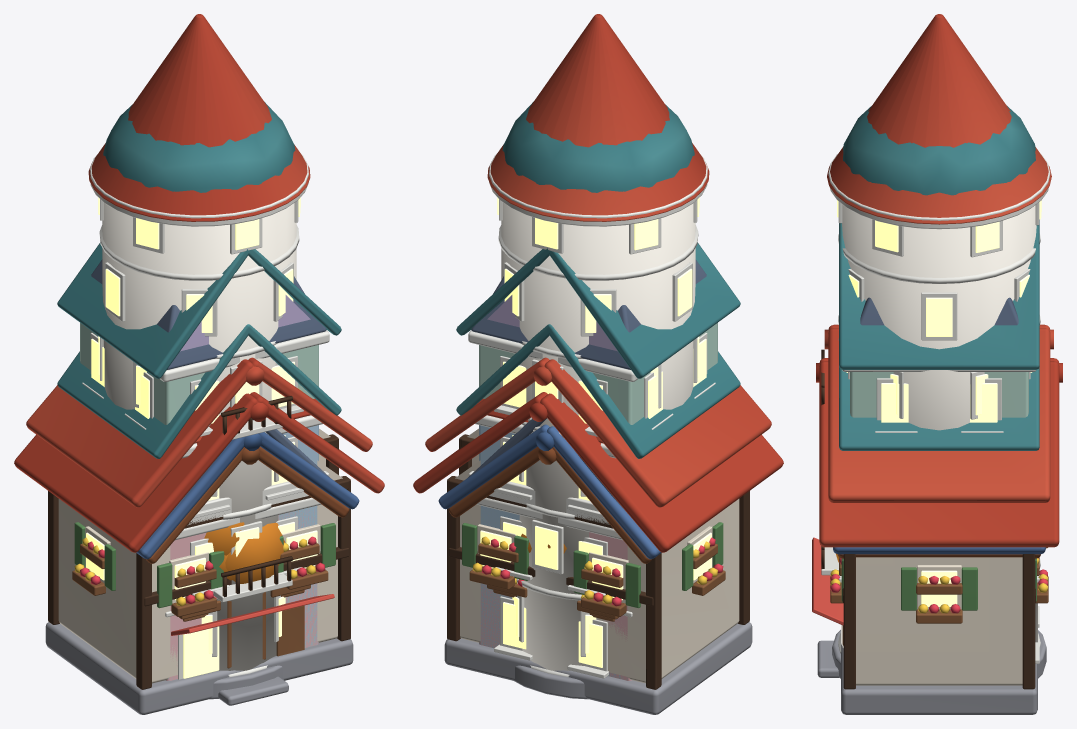
The model's file is props.glb.
3 views of the same model, side by side, from view 1: azimuth 30°, elevation 25°; view 2: azimuth 150°, elevation 25°; view 3: azimuth 270°, elevation 25° (orthographic).
Visible parts, largest first — view 1: tower_0, house_0, house_3, town_0, town_3, tower_1, town_5, town_2, house_1, house_2, town_1, tree_leafy_2 (+2 smaller); view 2: tower_0, house_0, house_3, tower_1, town_5, town_3, town_0, town_2, house_1, town_1, house_2, town_4; view 3: house_0, tower_0, house_3, town_5, tower_1, town_2, town_3, town_0, house_1, house_2.
Boxes of the visible parts, <box> form: tower_0: <box>88,14,310,699</box>; house_0: <box>14,392,384,714</box>; house_3: <box>26,357,372,701</box>; town_0: <box>165,419,334,680</box>; town_3: <box>80,259,329,679</box>; tower_1: <box>103,101,295,192</box>; town_5: <box>57,242,341,378</box>; town_2: <box>57,324,341,458</box>; house_1: <box>136,432,359,698</box>; house_2: <box>146,446,349,621</box>; town_1: <box>168,398,323,680</box>; tree_leafy_2: <box>225,522,285,583</box>; tower_0: <box>487,14,709,699</box>; house_0: <box>413,392,783,714</box>; house_3: <box>425,357,771,587</box>; tower_1: <box>502,101,694,192</box>; town_5: <box>456,242,740,378</box>; town_3: <box>468,259,717,679</box>; town_0: <box>468,418,632,680</box>; town_2: <box>456,324,740,458</box>; house_1: <box>438,424,661,619</box>; town_1: <box>474,398,627,679</box>; house_2: <box>448,446,651,621</box>; town_4: <box>468,471,609,524</box>; house_0: <box>816,358,1062,714</box>; tower_0: <box>827,14,1051,678</box>; house_3: <box>824,324,1053,677</box>; town_5: <box>839,220,1039,369</box>; tower_1: <box>843,106,1035,195</box>; town_2: <box>839,367,1039,450</box>; town_3: <box>821,297,1036,432</box>; town_0: <box>812,537,1039,663</box>; house_1: <box>833,547,1045,677</box>; house_2: <box>837,554,1040,558</box>.
Size of the model in its own units: 1.67 by 4.17 by 1.4.
